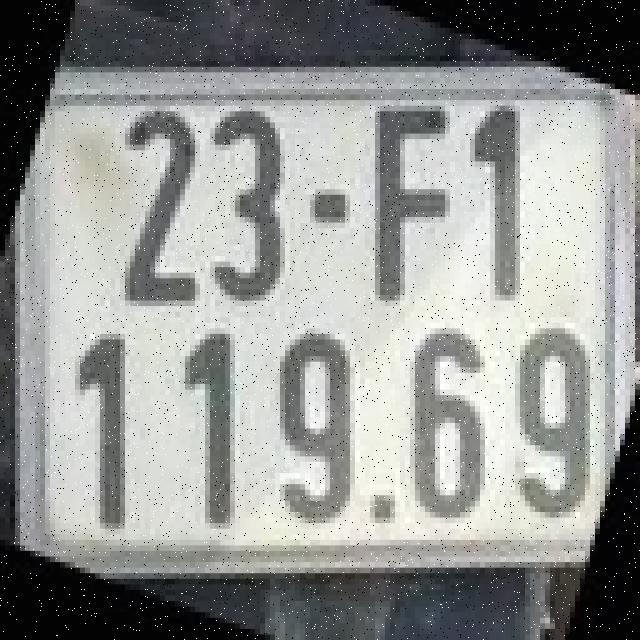1: (68, 326, 148, 532), (172, 325, 252, 526), (468, 100, 538, 301)
2: (115, 106, 200, 306)
3: (208, 106, 288, 300)
6: (405, 322, 490, 518)
9: (270, 323, 360, 523), (510, 320, 595, 520)
F: (368, 98, 452, 304)
